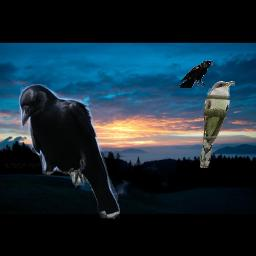Crow: (18, 84, 120, 221), (180, 60, 213, 88)
Cuckoo: (200, 81, 235, 168)
